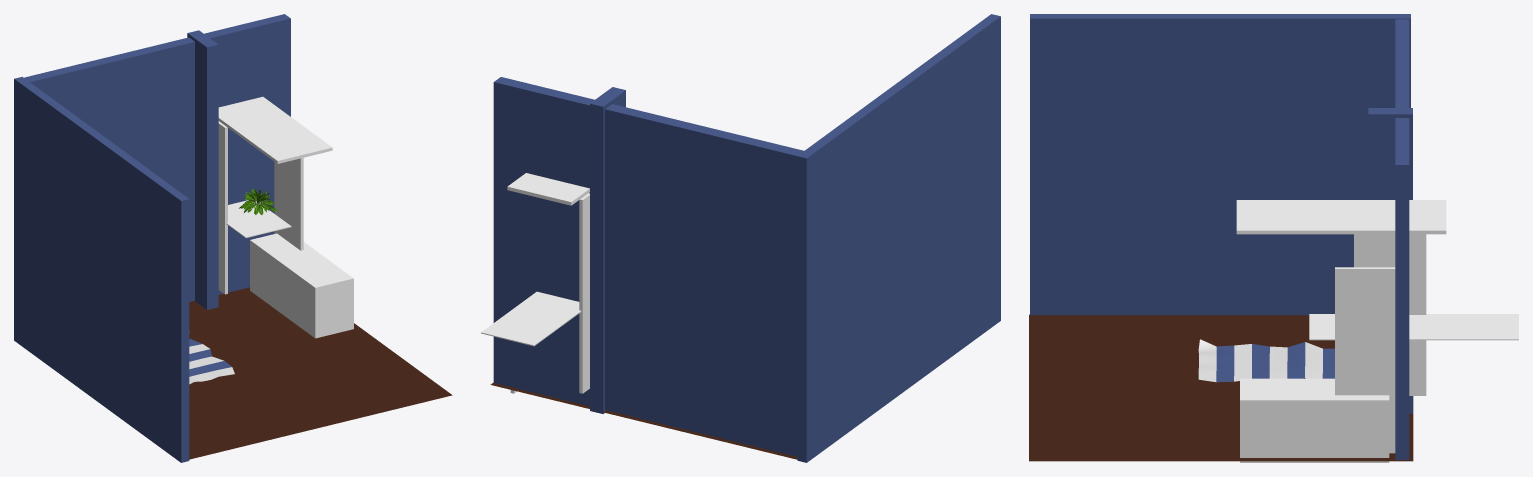
Rendered from room.fbx.
3 renders of one model, left to right at view 1: azimuth 30°, elevation 25°; view 2: azimuth 150°, elevation 25°; view 3: azimuth 270°, elevation 25°, orthographic. The views are drawn at different scales.
Visible parts, largest first — view 1: Cube_1, Cube, Plane, Cube_5, Cube_5_6, Cube_5_3, Cube_5_4, Cube_5_5, Cube_5_2, Plane_1, _null__4; view 2: Cube, Cube_1, Cube_5_6, Cube_5_2, Cube_5_5, Cube_5_3, Plane; view 3: Cube_1, Plane, Cube_5, Cube_5_4, Cube_5_3, Cube, Plane_1, Cube_5_5, Cube_5_2, Cube_5_6.
Part boxes in pixels (x1=…): Cube_1: x1=14, y1=76, x2=189, y2=462; Cube: x1=24, y1=14, x2=290, y2=301; Plane: x1=189, y1=287, x2=452, y2=459; Cube_5: x1=250, y1=233, x2=353, y2=338; Cube_5_6: x1=187, y1=30, x2=218, y2=309; Cube_5_3: x1=218, y1=96, x2=332, y2=163; Cube_5_4: x1=274, y1=157, x2=303, y2=250; Cube_5_5: x1=218, y1=121, x2=227, y2=294; Cube_5_2: x1=226, y1=200, x2=291, y2=237; Plane_1: x1=189, y1=332, x2=234, y2=384; _null__4: x1=239, y1=188, x2=276, y2=214; Cube: x1=493, y1=77, x2=803, y2=456; Cube_1: x1=797, y1=14, x2=1000, y2=462; Cube_5_6: x1=590, y1=87, x2=625, y2=413; Cube_5_2: x1=481, y1=291, x2=581, y2=346; Cube_5_5: x1=579, y1=193, x2=589, y2=393; Cube_5_3: x1=507, y1=173, x2=589, y2=205; Plane: x1=490, y1=382, x2=797, y2=459; Cube_1: x1=1030, y1=14, x2=1410, y2=315; Plane: x1=1029, y1=314, x2=1413, y2=461; Cube_5: x1=1240, y1=378, x2=1389, y2=462; Cube_5_4: x1=1335, y1=267, x2=1395, y2=453; Cube_5_3: x1=1236, y1=200, x2=1446, y2=234; Cube: x1=1395, y1=19, x2=1409, y2=459; Plane_1: x1=1198, y1=339, x2=1334, y2=382; Cube_5_5: x1=1354, y1=234, x2=1426, y2=395; Cube_5_2: x1=1309, y1=314, x2=1518, y2=340; Cube_5_6: x1=1368, y1=108, x2=1412, y2=413.
Size of what is drawn, in the model's own units: 675 by 637 by 927.
